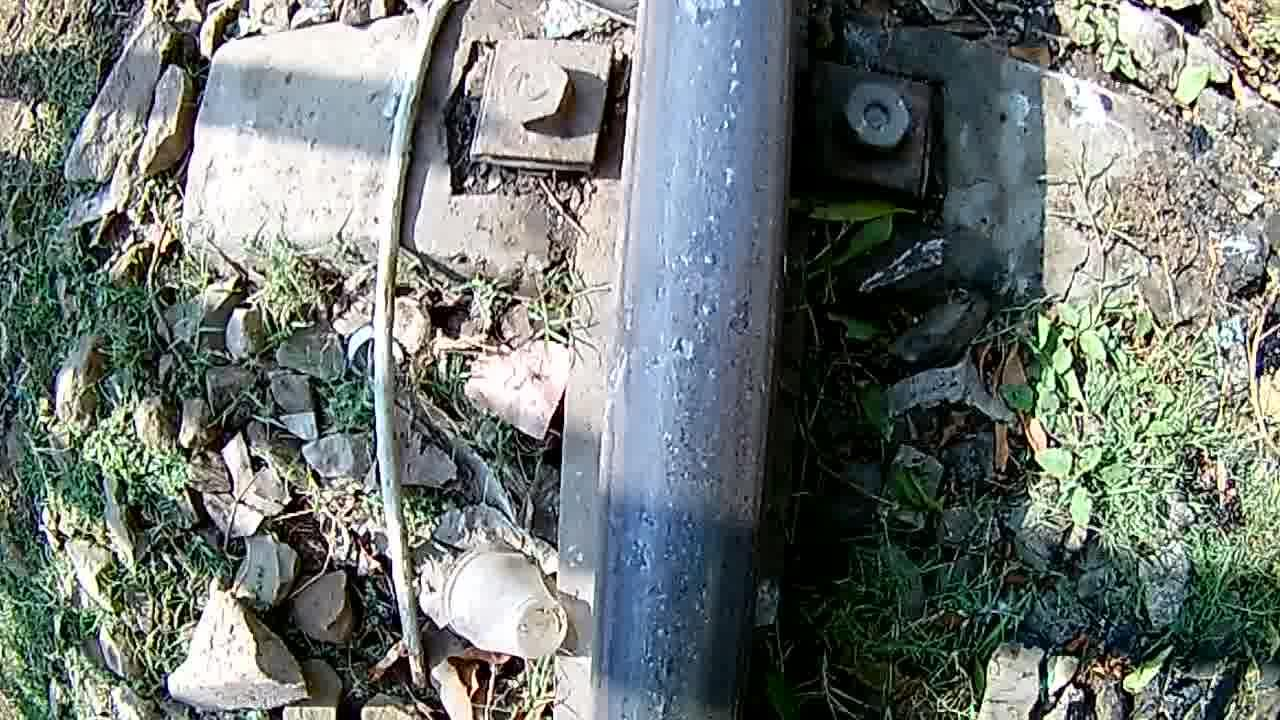clip_missing: (588, 4, 794, 720)
